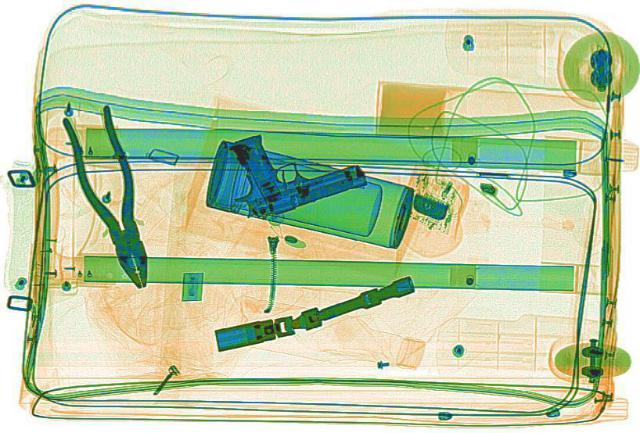Gun: (196, 109, 372, 222)
Pliers: (52, 102, 166, 289)
